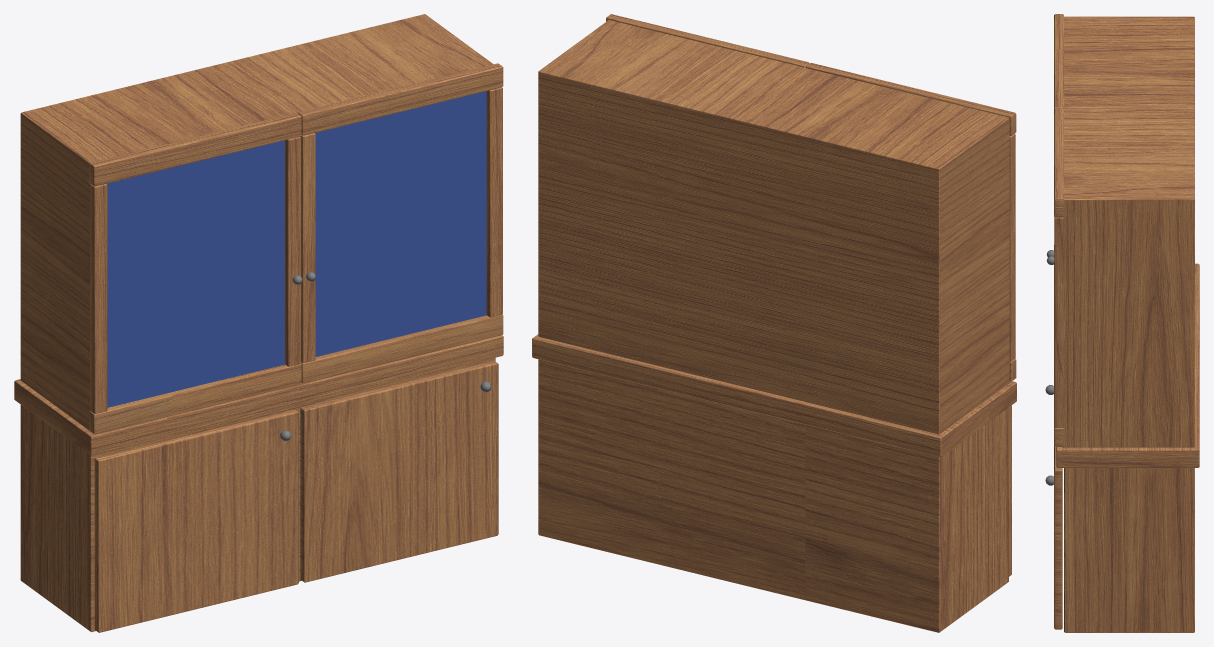
Rendered from SM_shelf_05.fbx.
3 renders of one model, left to right at view 1: azimuth 30°, elevation 25°; view 2: azimuth 150°, elevation 25°; view 3: azimuth 270°, elevation 25°, orthographic. The views are drawn at different scales.
Parts seen in each view (by area): view 1: shelf02; view 2: shelf02; view 3: shelf02.
Boxes of the visible parts, left/top/right/bottom form: shelf02: left=14, top=14, right=503, bottom=632; shelf02: left=532, top=14, right=1016, bottom=632; shelf02: left=1045, top=14, right=1199, bottom=632.
Bounding box in the file's own units: 75.74 × 82.46 × 26.43.
Materials: 3 (1 with a texture image).
